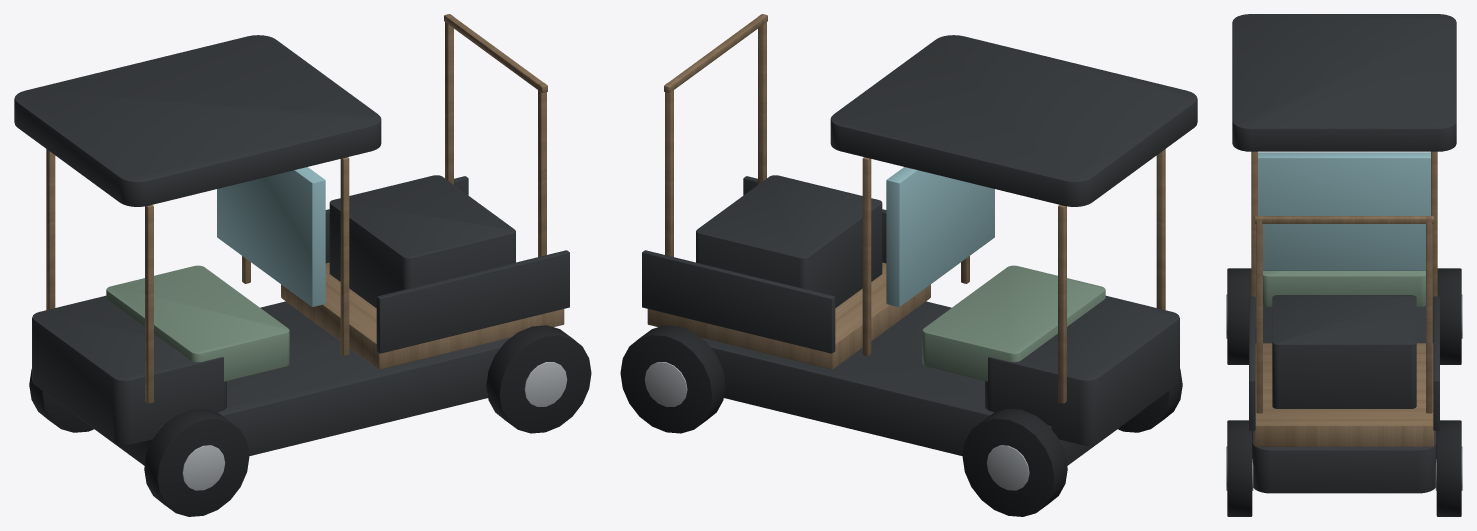
File: utility_cart_premium.glb
3 views of the same model, side by side, from view 1: azimuth 30°, elevation 25°; view 2: azimuth 150°, elevation 25°; view 3: azimuth 270°, elevation 25° (orthographic). The views are drawn at different scales.
Visible parts, largest first — view 1: Canopy_Roof, ServiceCart_Chassis, ServiceCart_Hood, ServiceCart_Toolbox, ServiceCart_Seat, ServiceCart_BedSide_L, ServiceCart_Windshield, ServiceWheel_Front_L_Tire, ServiceWheel_Rear_L_Tire, ServiceCart_BedFloor, Canopy_Post_2_1, Canopy_Post_1_1 (+7 smaller); view 2: Canopy_Roof, ServiceCart_Chassis, ServiceCart_Hood, ServiceCart_Toolbox, ServiceCart_Seat, ServiceCart_BedSide_R, ServiceCart_Windshield, ServiceWheel_Front_R_Tire, ServiceWheel_Rear_R_Tire, ServiceCart_BedFloor, Canopy_Post_2_2, Canopy_Post_1_2 (+7 smaller); view 3: Canopy_Roof, ServiceCart_Windshield, ServiceCart_Toolbox, ServiceCart_Chassis, ServiceCart_BedFloor, ServiceCart_Seat, ServiceWheel_Rear_L_Tire, ServiceWheel_Rear_R_Tire, ServiceWheel_Front_L_Tire, ServiceWheel_Front_R_Tire, ServiceCart_SafetyRackTop, ServiceCart_SafetyRackPost_L (+5 smaller).
Boxes of the visible parts, x1=… form: Canopy_Roof: x1=14, y1=35, x2=381, y2=206; ServiceCart_Chassis: x1=69, y1=301, x2=510, y2=465; ServiceCart_Hood: x1=32, y1=295, x2=226, y2=445; ServiceCart_Toolbox: x1=329, y1=175, x2=515, y2=307; ServiceCart_Seat: x1=106, y1=265, x2=289, y2=381; ServiceCart_BedSide_L: x1=376, y1=250, x2=569, y2=353; ServiceCart_Windshield: x1=217, y1=167, x2=325, y2=306; ServiceWheel_Front_L_Tire: x1=144, y1=408, x2=249, y2=516; ServiceWheel_Rear_L_Tire: x1=486, y1=325, x2=591, y2=433; ServiceCart_BedFloor: x1=281, y1=262, x2=564, y2=369; Canopy_Post_2_1: x1=340, y1=157, x2=349, y2=355; Canopy_Post_1_1: x1=145, y1=205, x2=153, y2=403; Canopy_Roof: x1=830, y1=35, x2=1197, y2=206; ServiceCart_Chassis: x1=701, y1=301, x2=1142, y2=465; ServiceCart_Hood: x1=985, y1=295, x2=1179, y2=445; ServiceCart_Toolbox: x1=696, y1=175, x2=882, y2=307; ServiceCart_Seat: x1=922, y1=265, x2=1105, y2=381; ServiceCart_BedSide_R: x1=642, y1=250, x2=835, y2=353; ServiceCart_Windshield: x1=886, y1=167, x2=994, y2=306; ServiceWheel_Front_R_Tire: x1=962, y1=408, x2=1067, y2=516; ServiceWheel_Rear_R_Tire: x1=620, y1=325, x2=725, y2=433; ServiceCart_BedFloor: x1=647, y1=262, x2=930, y2=369; Canopy_Post_2_2: x1=862, y1=157, x2=871, y2=355; Canopy_Post_1_2: x1=1058, y1=205, x2=1066, y2=403; Canopy_Roof: x1=1232, y1=14, x2=1456, y2=151; ServiceCart_Windshield: x1=1258, y1=152, x2=1430, y2=270; ServiceCart_Toolbox: x1=1272, y1=295, x2=1416, y2=408; ServiceCart_Chassis: x1=1252, y1=306, x2=1436, y2=493; ServiceCart_BedFloor: x1=1254, y1=343, x2=1434, y2=446; ServiceCart_Seat: x1=1263, y1=271, x2=1425, y2=306; ServiceWheel_Rear_L_Tire: x1=1227, y1=420, x2=1252, y2=516; ServiceWheel_Rear_R_Tire: x1=1436, y1=420, x2=1461, y2=516; ServiceWheel_Front_L_Tire: x1=1227, y1=268, x2=1251, y2=364; ServiceWheel_Front_R_Tire: x1=1437, y1=268, x2=1461, y2=364; ServiceCart_SafetyRackTop: x1=1254, y1=216, x2=1434, y2=223; ServiceCart_SafetyRackPost_L: x1=1256, y1=216, x2=1262, y2=413.
Size of what is drawn, in the model's own units: 2.56 by 1.84 by 1.25.
Materials: 6 (1 with a texture image).
